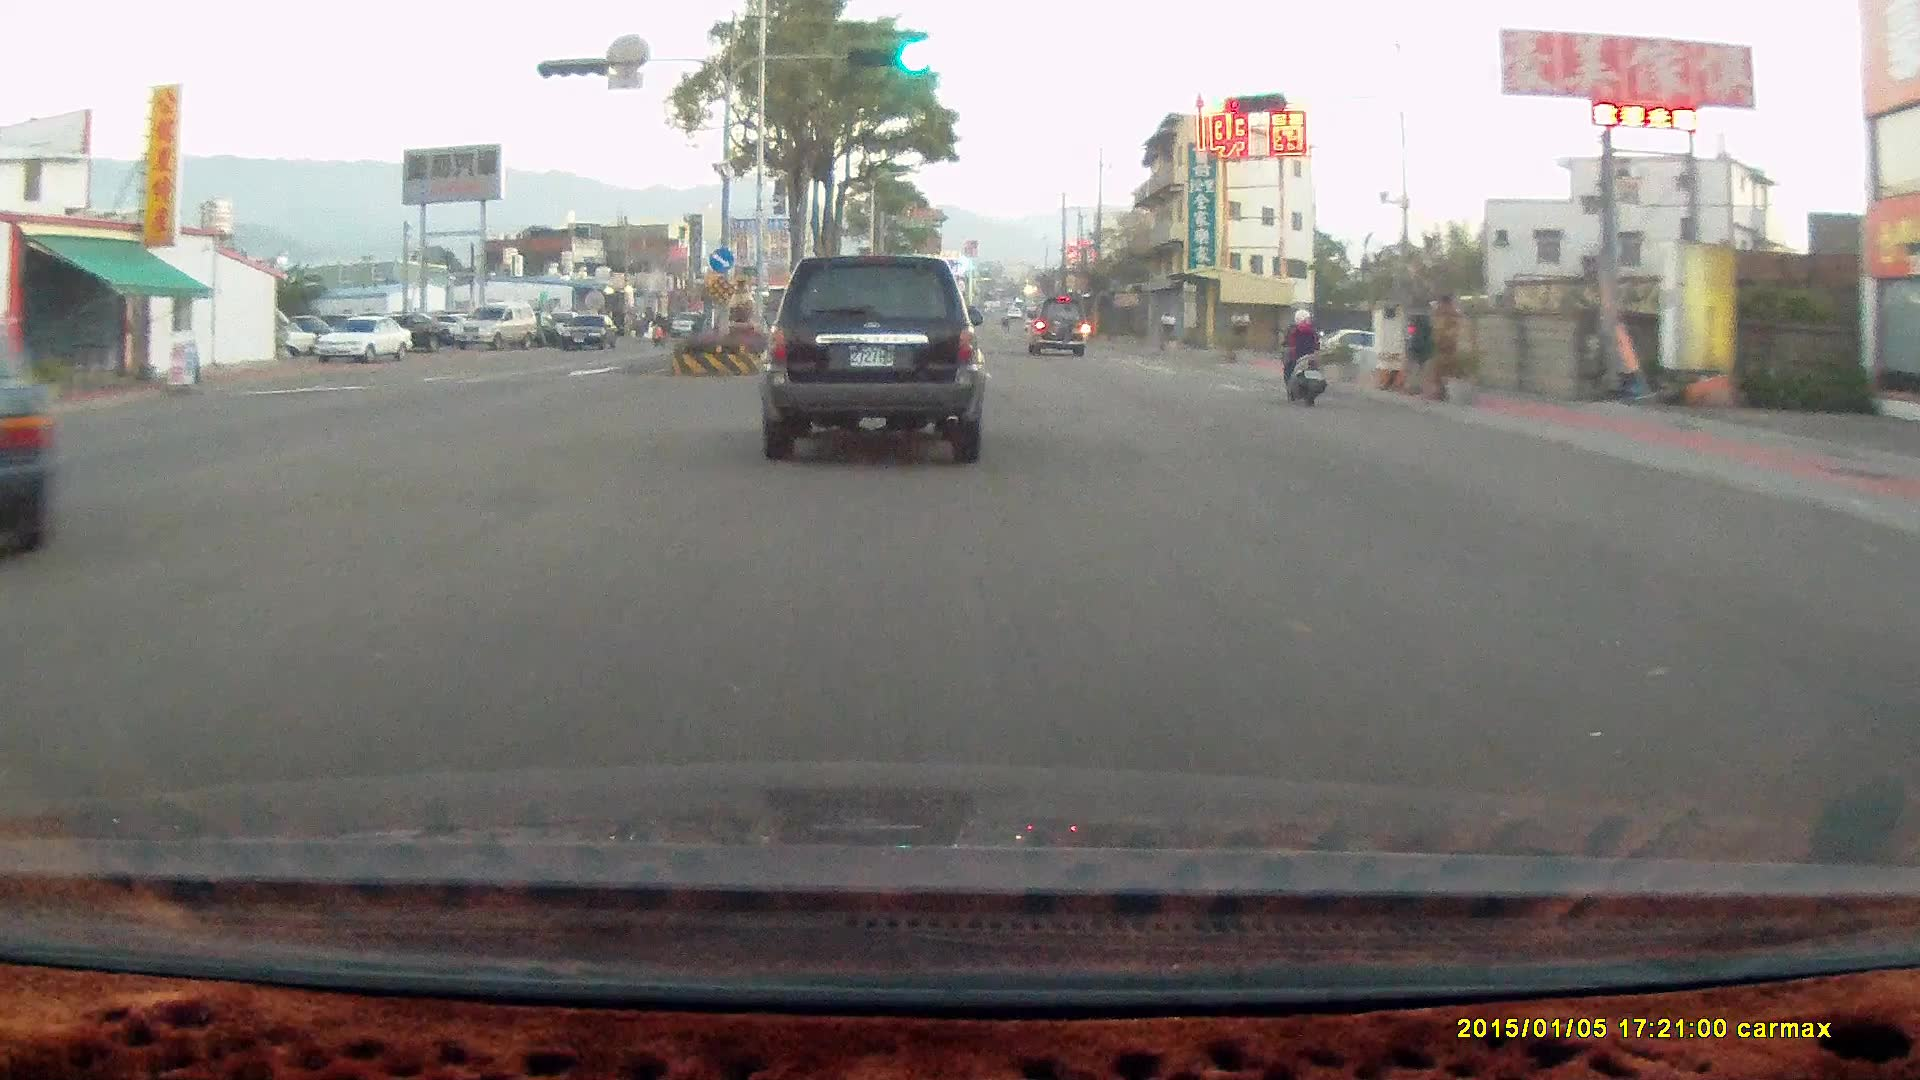rider: (1269, 297, 1335, 412), (1274, 304, 1325, 406)
vehicle: (767, 253, 997, 466), (760, 252, 984, 461), (1, 311, 62, 555), (313, 315, 412, 364), (319, 320, 416, 370), (452, 303, 540, 354), (451, 300, 538, 351), (1029, 298, 1089, 360), (1024, 298, 1087, 357), (365, 312, 449, 352), (559, 314, 619, 352)
